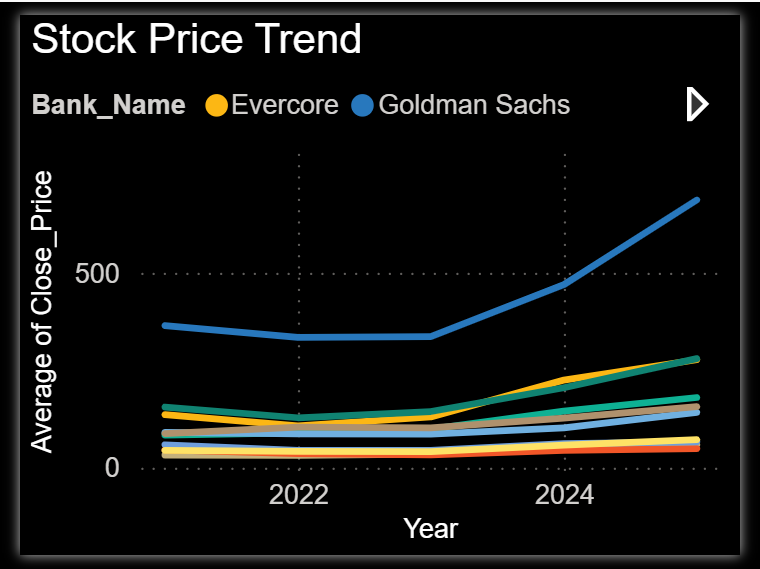

The dashboard page shown, as its layout file describes it:
{"tool":"powerbi","page":{"name":"tooltip-1","canvas":[320,240],"ordinal":3},"visuals":[{"type":"lineChart","title":"Stock Price Trend","fields":{"Y":["Avg(investment_bank_stock_prices.Close_Price)"],"Series":["investment_bank_stock_prices.Bank_Name"],"Category":["investment_bank_stock_prices.Year"]},"box":[0,0,320,240],"z":0}]}

Visuals, with their boxes in screenshot pixels (x1, y1, x2, y2), scaled from the page's 320x240 canvas onto the 760x569 screenshot:
"Stock Price Trend" lineChart: crop(0, 0, 759, 568)
